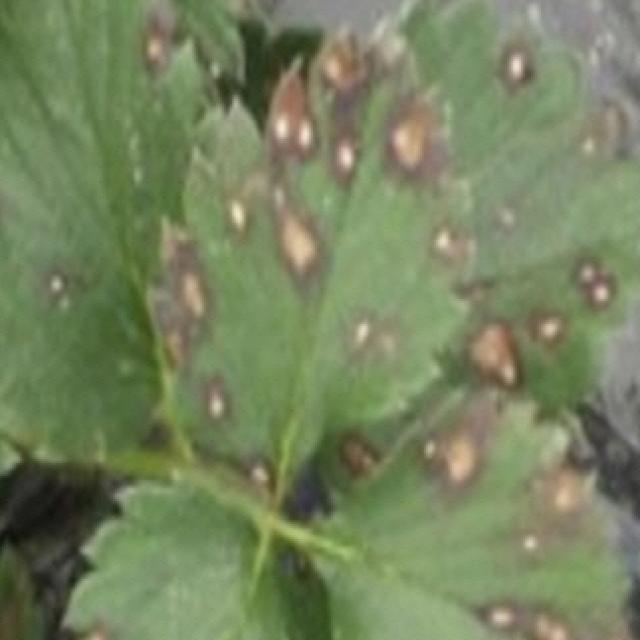Leaf Spot: (314, 0, 640, 510), (146, 15, 480, 508), (301, 387, 632, 640), (60, 472, 337, 640)
